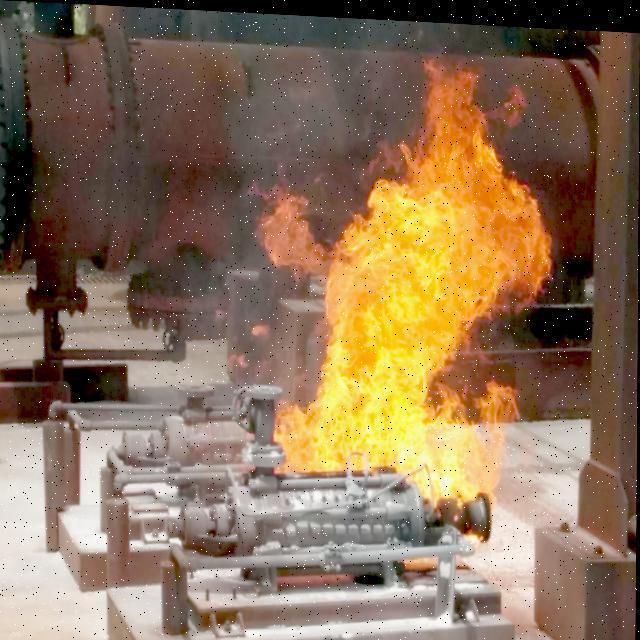Fire: (251, 42, 557, 538)
